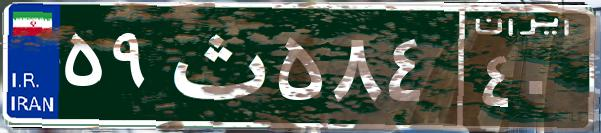0: (525, 38, 570, 115)
4: (385, 28, 445, 110), (475, 38, 525, 113)
5: (273, 28, 330, 110), (57, 26, 110, 107)
8: (330, 28, 385, 110)
9: (110, 28, 158, 105)
ث: (158, 15, 273, 115)
